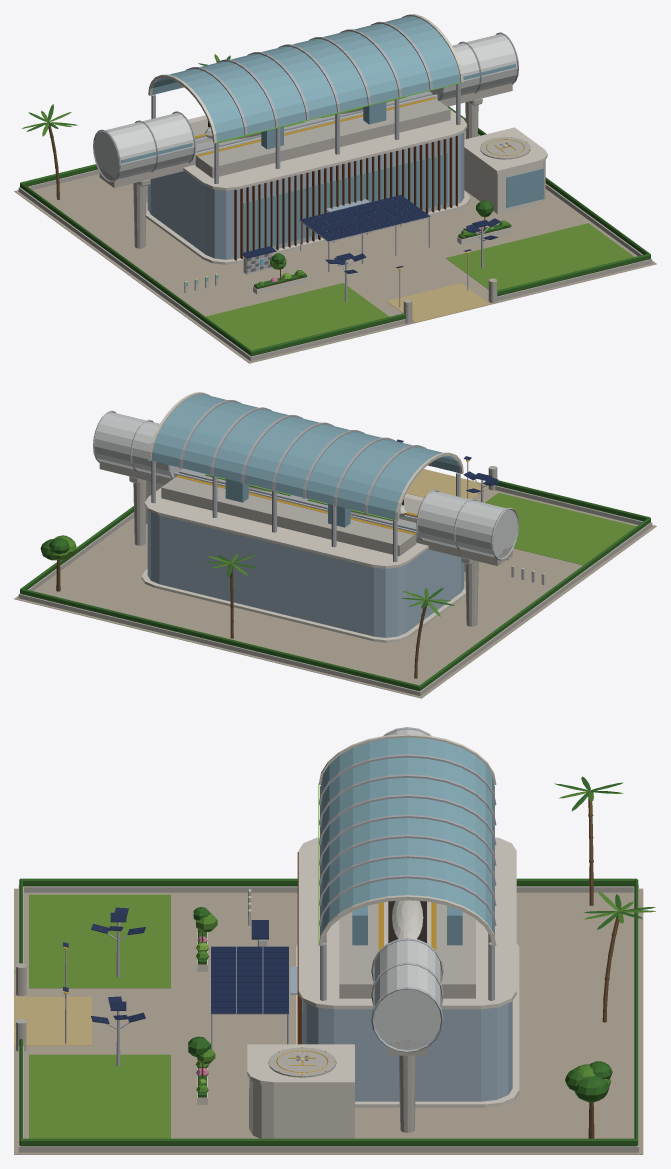
Rendered from station.glb.
3 renders of one model, top to bottom at view 1: azimuth 30°, elevation 25°; view 2: azimuth 150°, elevation 25°; view 3: azimuth 270°, elevation 25°, orthographic. The views are drawn at different scales.
Parts seen in each view (by area): view 1: body, windows; view 2: body; view 3: body, windows.
Boxes of the visible parts, x1=… form: body: x1=14, y1=14, x2=656, y2=363; windows: x1=185, y1=82, x2=529, y2=306; body: x1=14, y1=392, x2=656, y2=698; body: x1=14, y1=727, x2=655, y2=1154; windows: x1=15, y1=783, x2=426, y2=1075.
Bounding box in the file's own units: 49.19 × 17.39 × 48.93.
